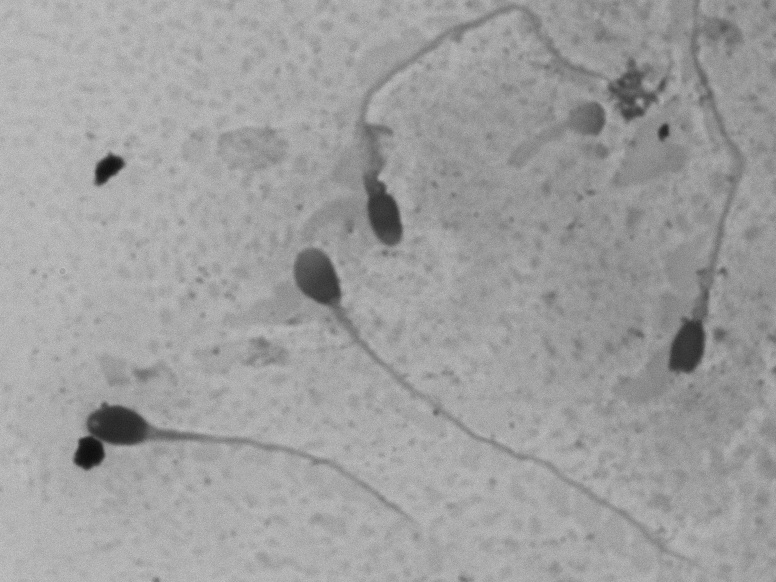Abnormal: (62, 374, 433, 553), (307, 29, 509, 250), (656, 53, 753, 387), (266, 230, 378, 373)
